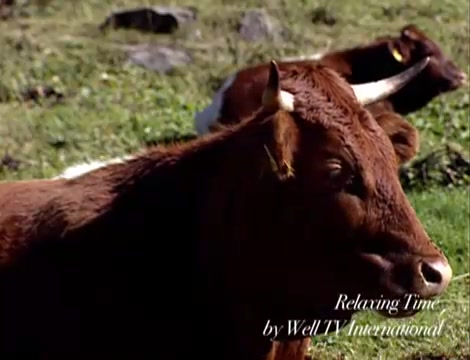cow: (1, 59, 454, 360)
